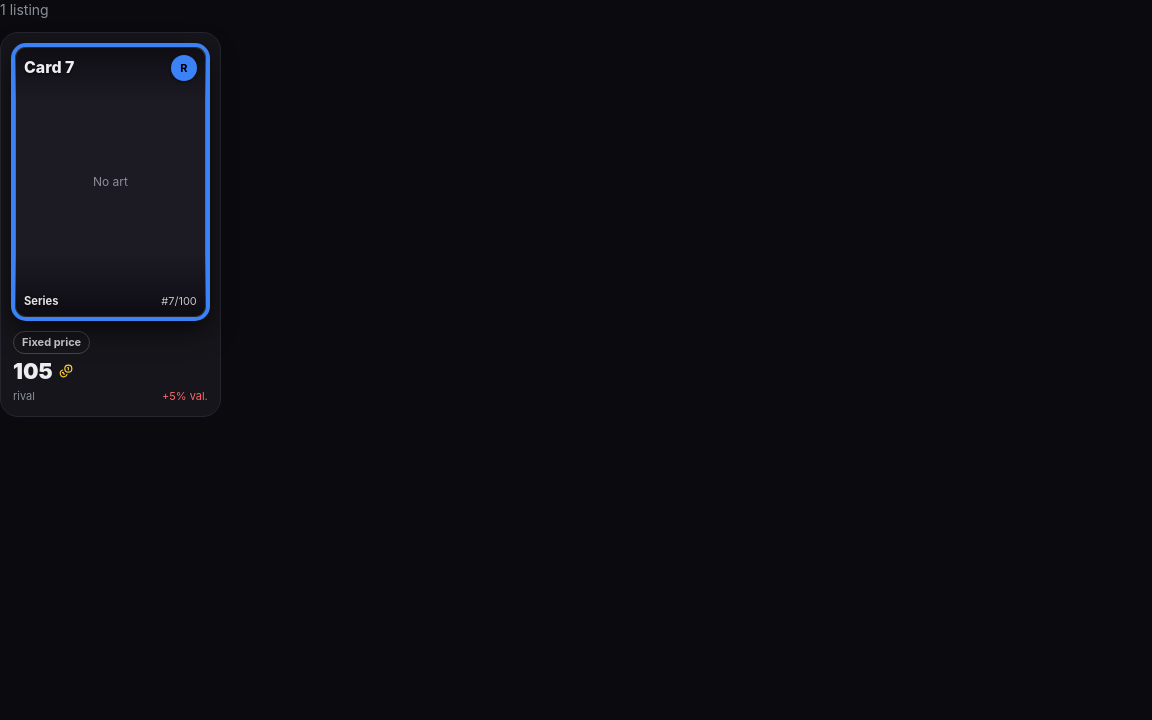
Test: BuyTab › shows a mapped error
This screenshot has width=1152, height=720.
Click the button with aria-label "buy": x=110, y=225 x1=0 y1=32 x2=221 y2=417
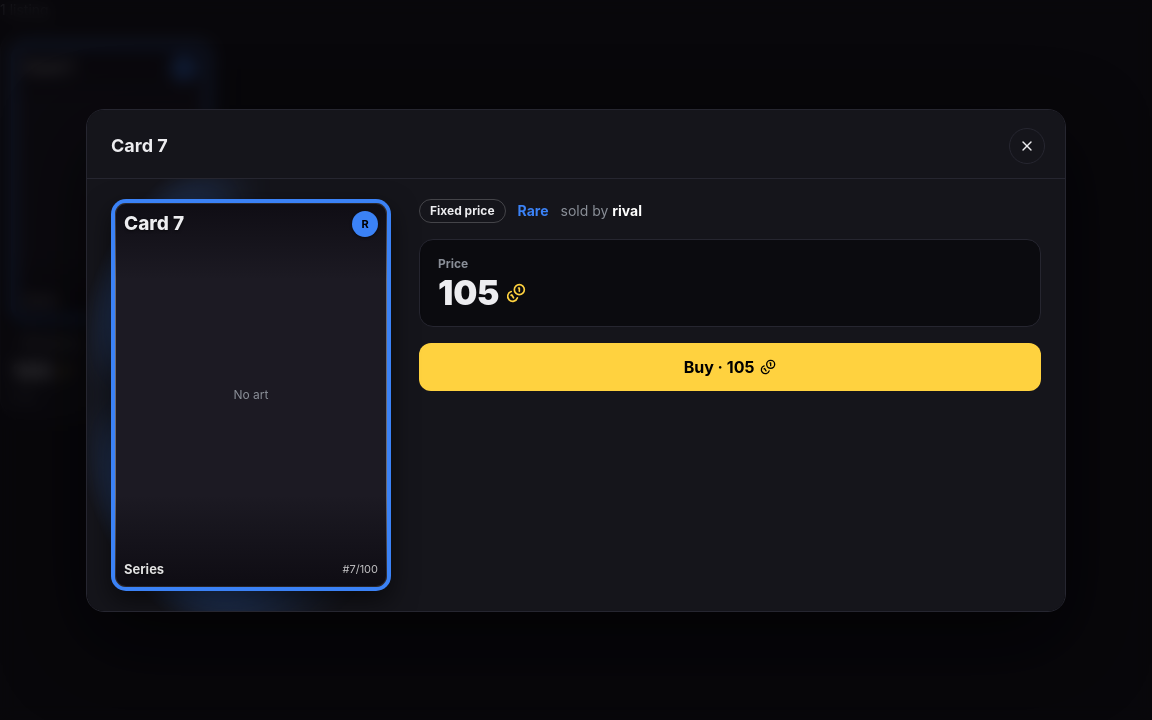
Click the button "Buy · 105": x=730, y=366 x1=419 y1=342 x2=1041 y2=390
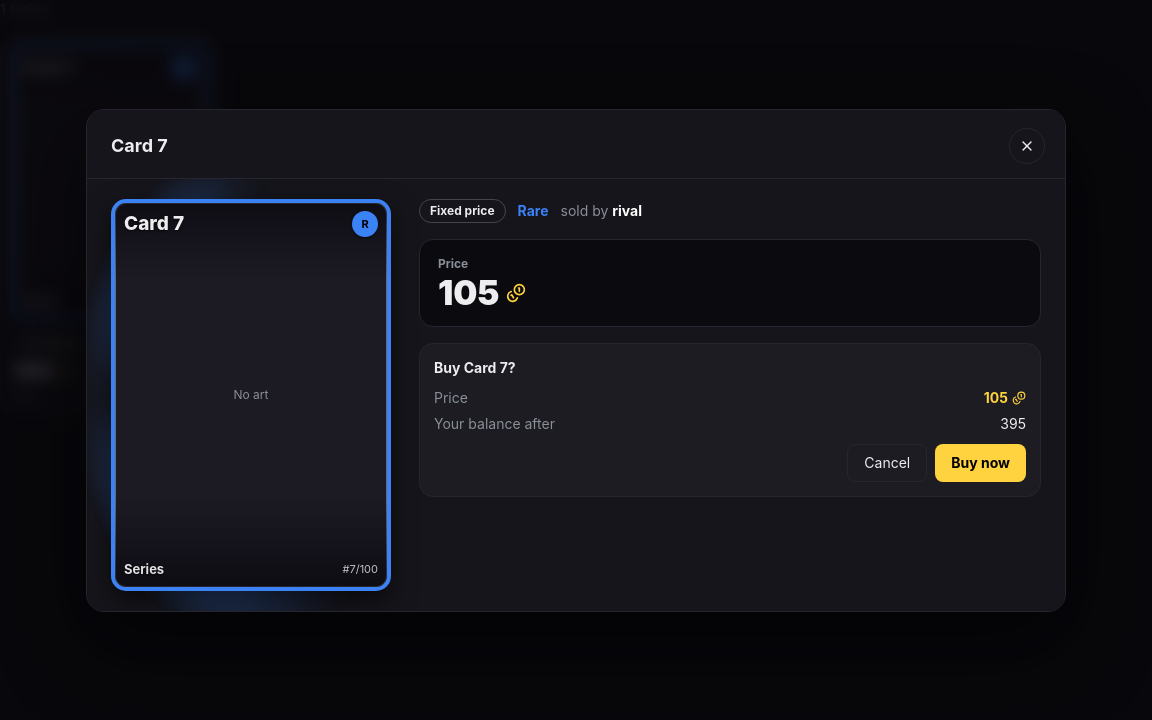
Click the button "Buy now": x=981, y=462 x1=935 y1=444 x2=1026 y2=482
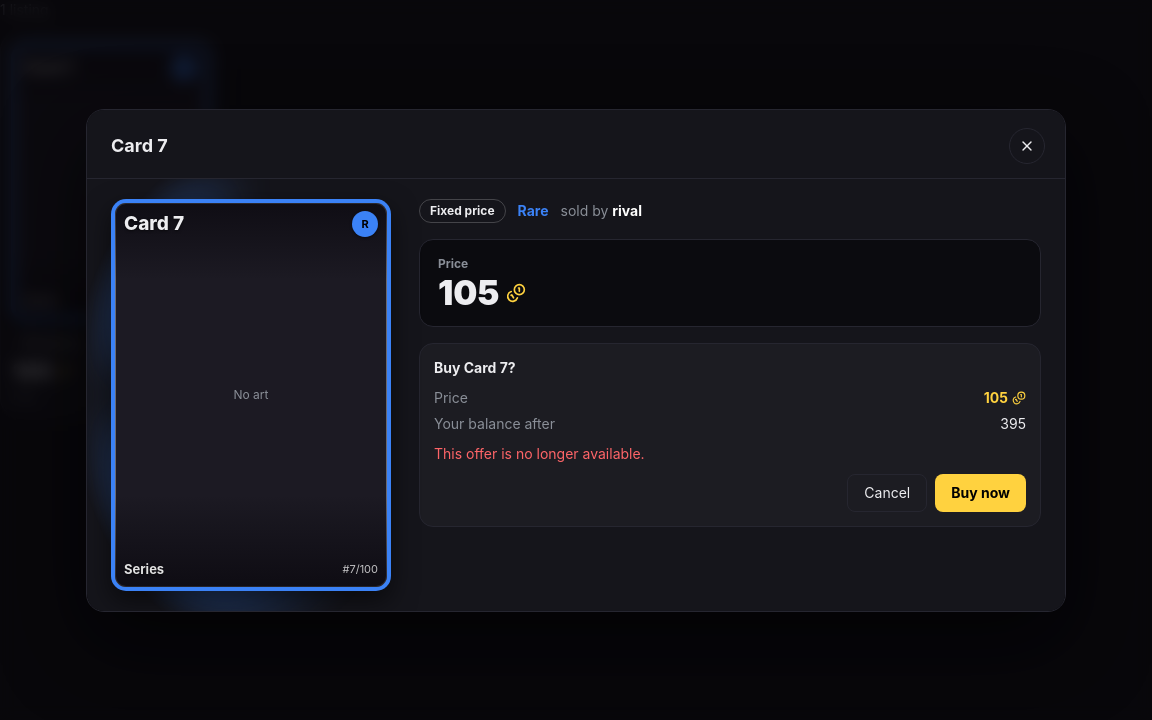
Check: the message reads "This offer is no longer available.", box x1=434 y1=444 x2=645 y2=462
